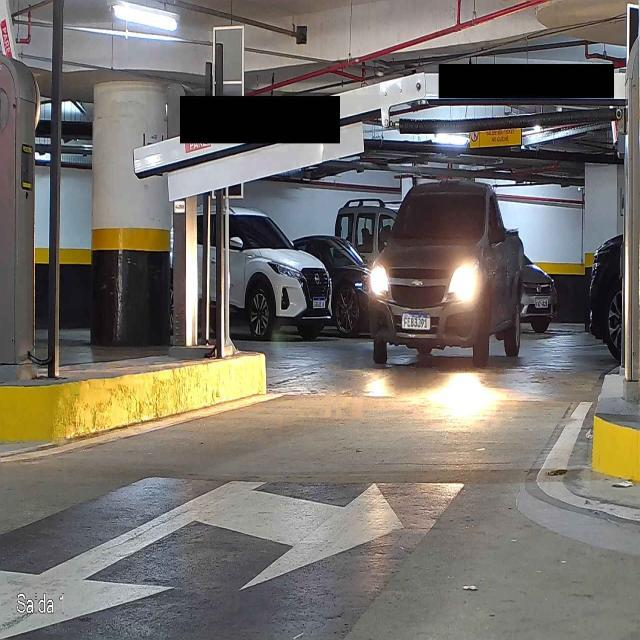mercosul_plate: (401, 310, 432, 331)
